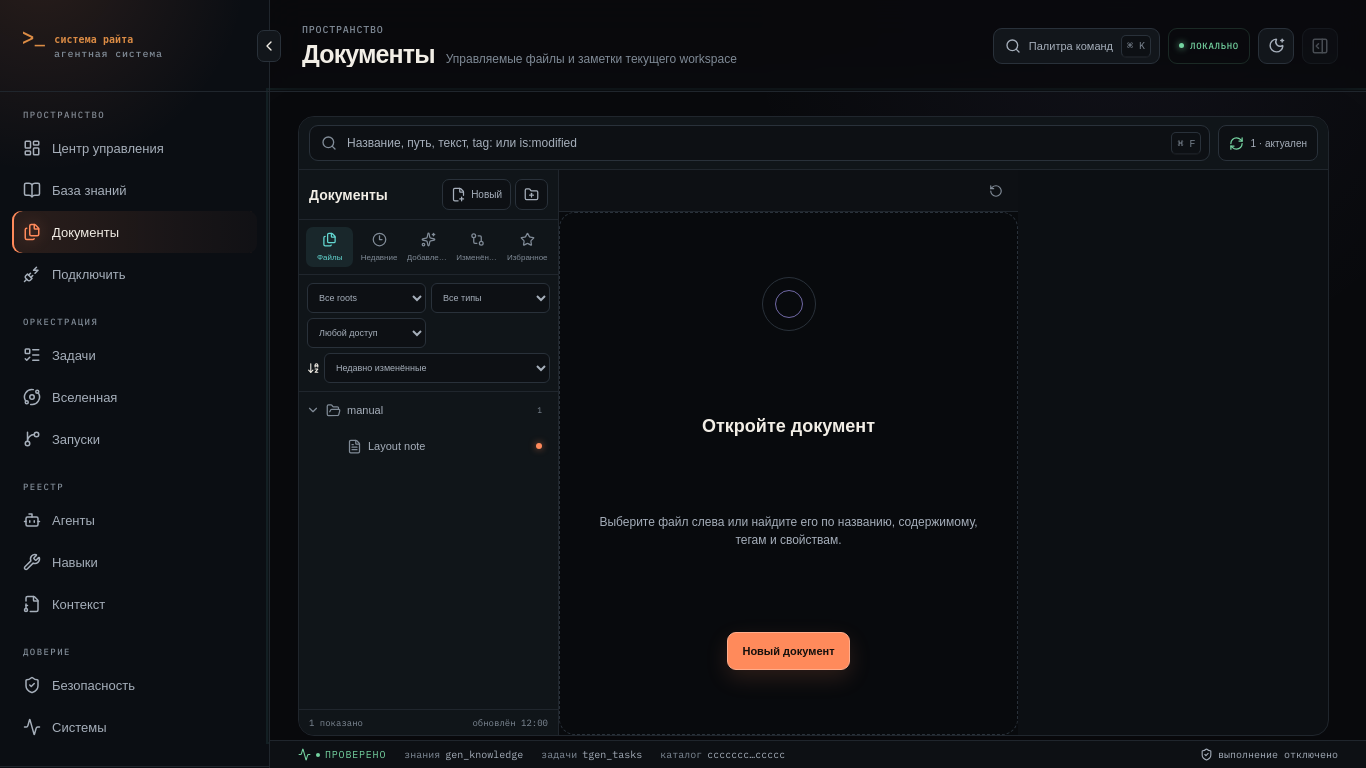
reviewed visual baselines › shows the complete Documents workspace on desktop
Click the list item "Layout note" at (397, 446), box [347,438,542,454]
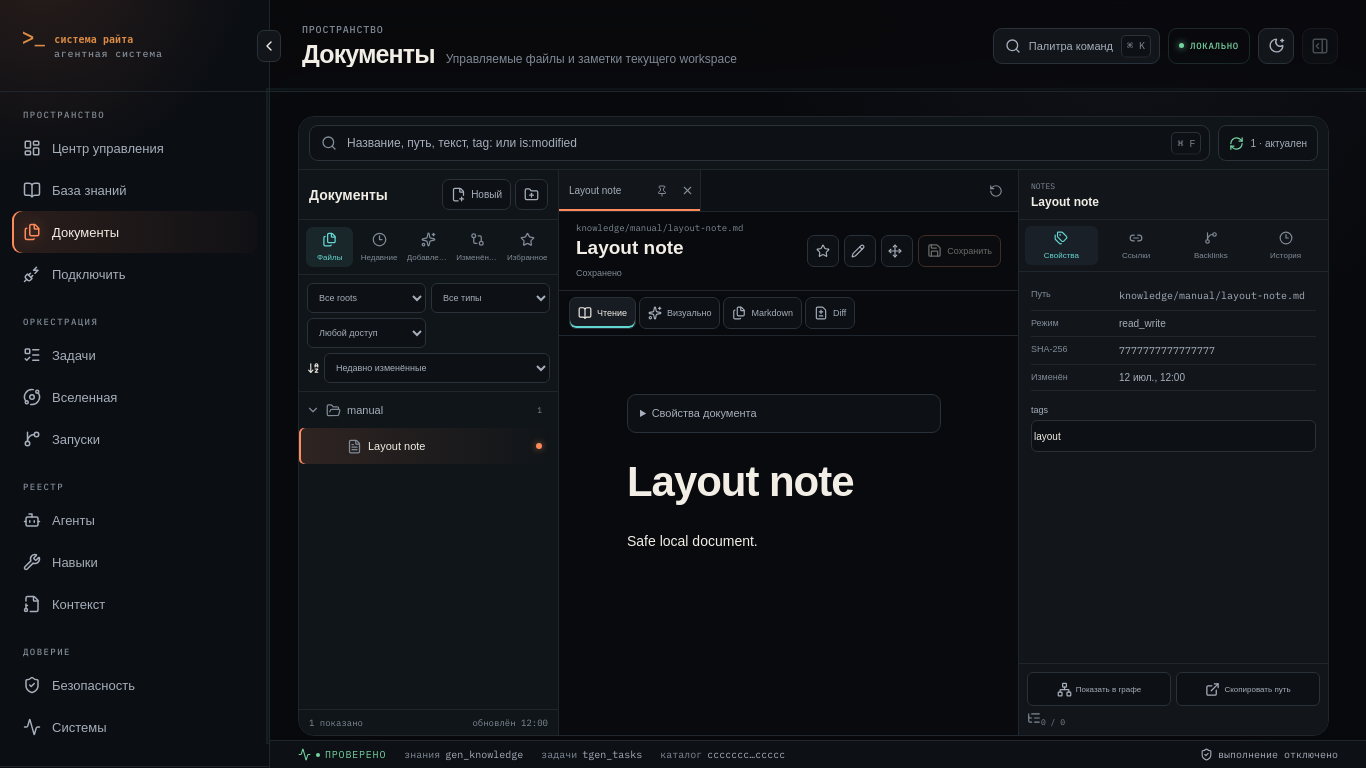
Expected: the element with class "document-stage" is shown, [559,212,1018,735]
